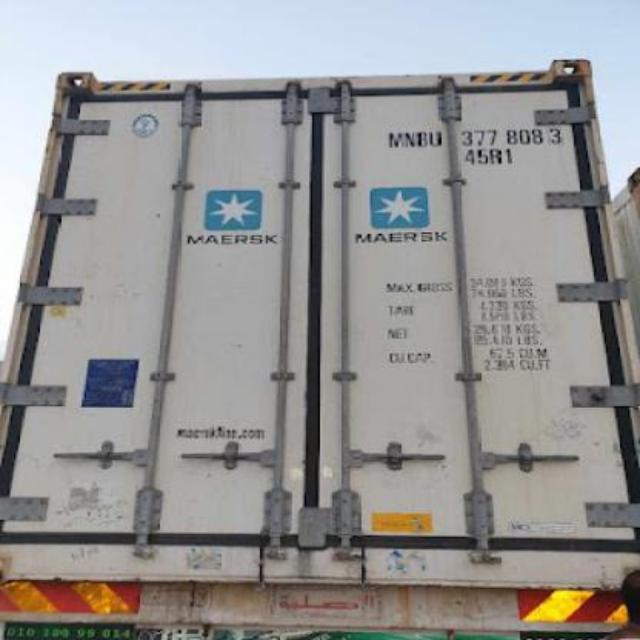0: (518, 127, 532, 145)
3: (548, 124, 566, 144), (458, 129, 476, 147)
7: (474, 127, 488, 145), (486, 127, 498, 145)
8: (506, 127, 520, 145), (532, 127, 546, 145)
B: (416, 128, 429, 150)
M: (386, 128, 404, 148)
N: (402, 128, 418, 148)
U: (428, 128, 442, 150)
